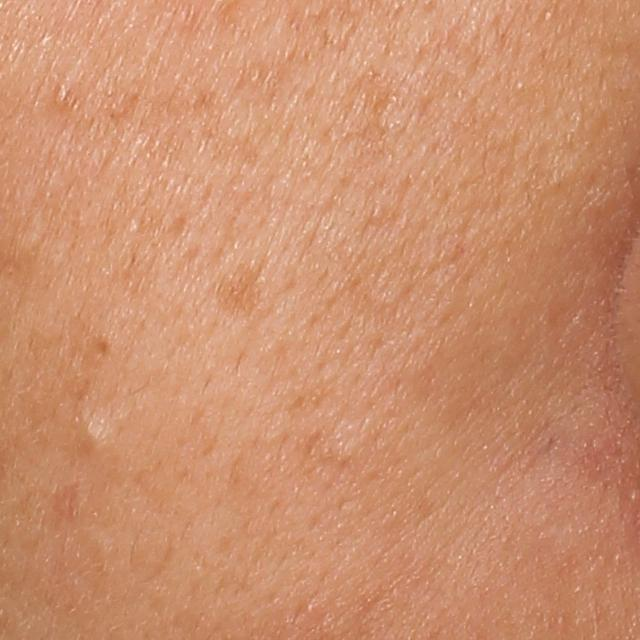comedo: (75, 416, 116, 460)
melasma: (209, 245, 274, 325)
